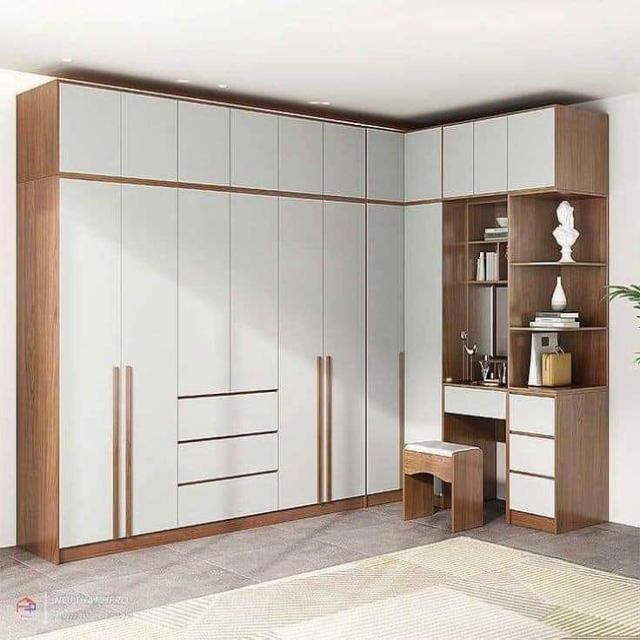door: (57, 176, 176, 552), (278, 194, 366, 511)
obstacle: (508, 389, 608, 526), (402, 439, 484, 532)
